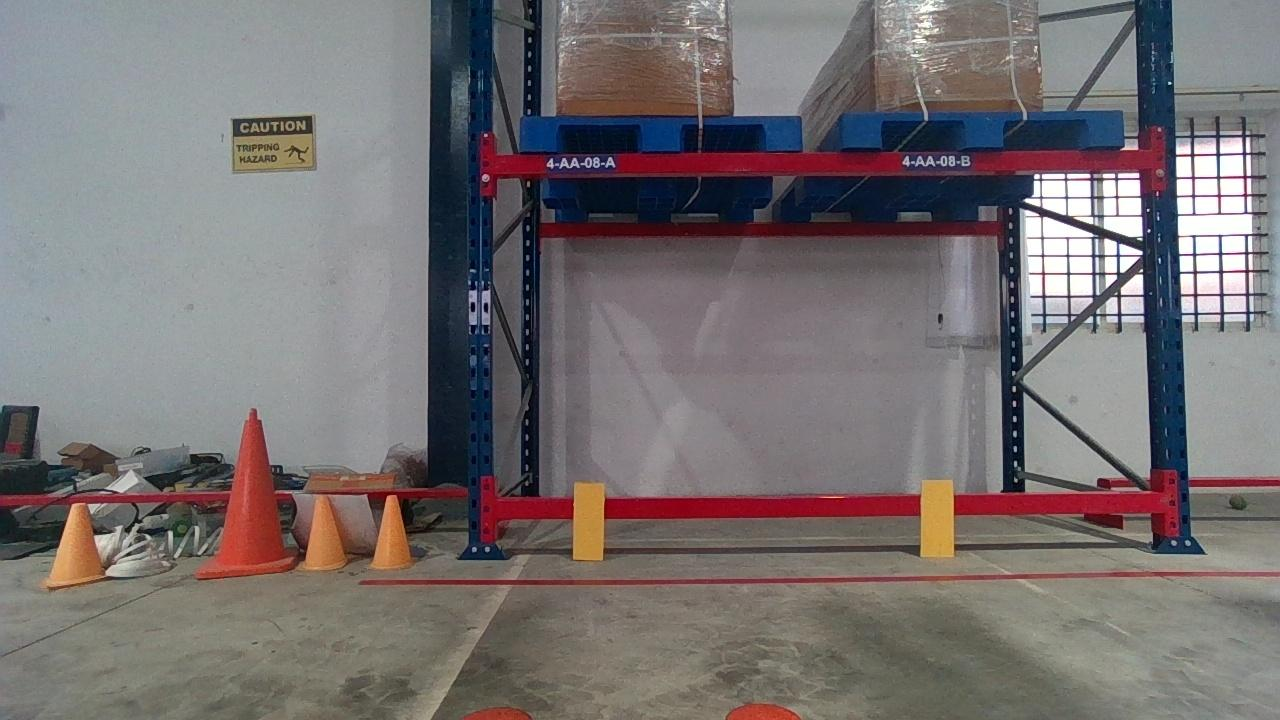h_rack: (495, 493, 1163, 518), (490, 150, 1152, 173)
orange_strip: (920, 479, 954, 555), (572, 482, 605, 559)
red_line: (349, 569, 1277, 586)
small_pallet: (836, 110, 1130, 148), (516, 116, 801, 151)
